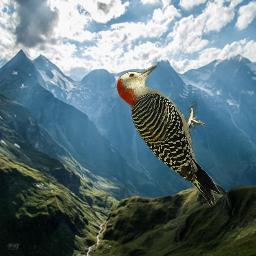Woodpecker: (113, 65, 222, 207)
